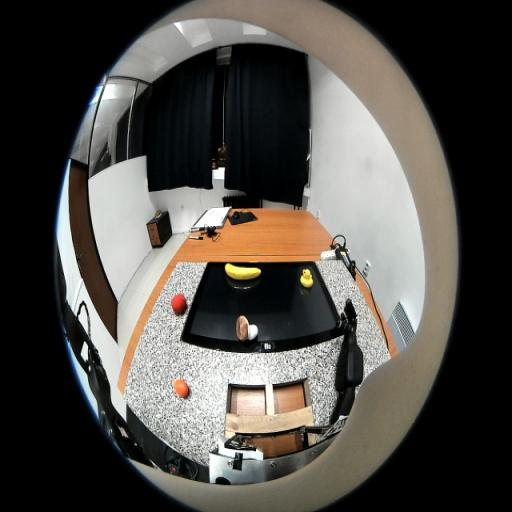Banana: (225, 264, 261, 280)
Duck: (300, 268, 314, 288)
Mushroom: (236, 315, 258, 341)
Orange: (175, 380, 189, 397)
RightHand: (345, 318, 357, 336)
Tomato: (171, 294, 187, 314)
